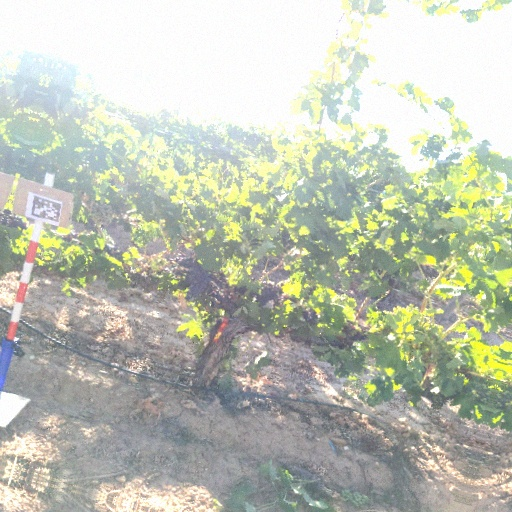QR: (30, 196, 62, 223)
